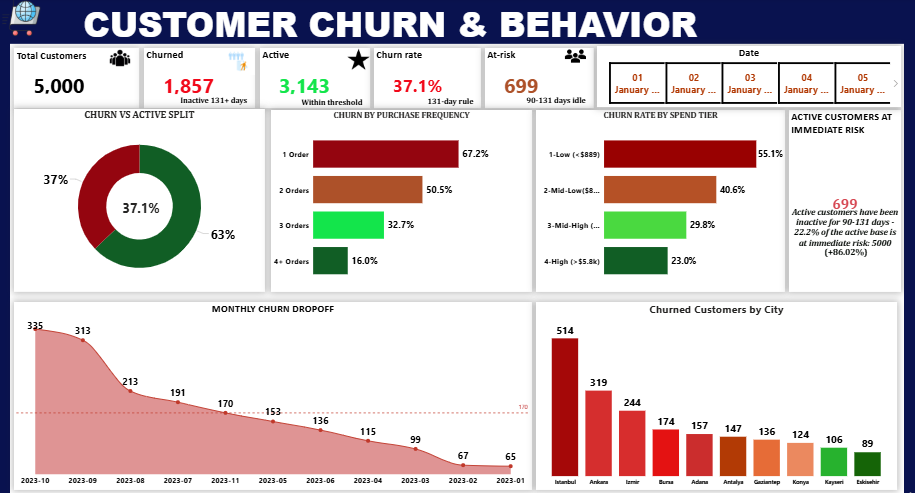

The page's visual inventory and layout, read from the dashboard file:
{"tool":"powerbi","page":{"name":"Customer Churn Dashboard","canvas":[1980,1080],"ordinal":0},"visuals":[{"type":"shape","box":[1952.6,30.2,28.1,1049.8],"z":0},{"type":"cardVisual","title":"Total Customers","fields":{"Data":["Orders.Total_Customers"]},"box":[30.2,108,270,129.6],"z":1000},{"type":"cardVisual","title":"Churned","fields":{"Data":["CustomerSummary.Churned_Customers"]},"box":[311,108,239.8,129.6],"z":2000},{"type":"textbox","title":"Inactive 131+ days","box":[384.5,211.7,157.7,19.4],"z":3000},{"type":"cardVisual","title":"Active","fields":{"Data":["CustomerSummary.Active_Customers"]},"box":[561.6,108,237.6,129.6],"z":4000},{"type":"textbox","title":"Within threshold","box":[645.8,216,153.4,19.4],"z":5000},{"type":"cardVisual","title":"Churn rate","fields":{"Data":["CustomerSummary.Churn_rate"]},"box":[807.8,108,231.1,129.6],"z":6000},{"type":"textbox","title":"131-day rule","box":[918,213.8,121,21.6],"z":7000},{"type":"cardVisual","title":"At-risk","fields":{"Data":["CustomerSummary.At_Risk_Customers"]},"box":[1047.6,108,235.4,129.6],"z":8000},{"type":"textbox","title":"90-131 days idle","box":[1131.8,211.7,146.9,23.8],"z":9000},{"type":"shape","box":[0,0,21.6,1080],"z":10000},{"type":"shape","box":[0,0,1980.7,99.4],"z":11000},{"type":"textbox","title":"CUSTOMER CHURN & BEHAVIOR DASHBOARD","box":[175,0,1624.3,90.7],"z":12000},{"type":"donutChart","title":"CHURN VS ACTIVE SPLIT","fields":{"Category":["CustomerSummary.Is_Churned"],"Y":["CustomerSummary.Customers"]},"box":[30.2,239.8,542.2,395.3],"z":13000},{"type":"textbox","title":"37.1%","box":[259.2,434.2,90.7,43.2],"z":14000},{"type":"clusteredBarChart","title":"CHURN BY PURCHASE FREQUENCY","fields":{"Category":["CustomerSummary.Order_Frequency_Segment"],"Y":["CustomerSummary.Churn_Rate_by_Frequency"]},"box":[585.4,241.9,563.8,393.1],"z":15000},{"type":"barChart","title":"CHURN RATE BY SPEND TIER","fields":{"Category":["CustomerSummary.Spend_Tier"],"Y":["CustomerSummary.Churn_Rate_By_Spend"]},"box":[1157.8,241.9,537.8,393.1],"z":16000},{"type":"lineChart","title":"MONTHLY CHURN DROPOFF","fields":{"Category":["Date_Table.Year-Month"],"Y":["CustomerSummary.Monthly_Churn_dropoff"]},"box":[30.2,656.6,1118.9,406.1],"z":17000},{"type":"kpi","title":"ACTIVE CUSTOMERS AT IMMEDIATE RISK","fields":{"Indicator":["CustomerSummary.At_Risk_Customers"],"Goal":["CustomerSummary.Customers"],"TrendLine":["Date_Table.Date"]},"box":[1704.2,241.9,241.9,393.1],"z":18000},{"type":"slicer","title":"Date","fields":{"Values":["Date_Table.Date"]},"box":[1289.5,103.7,656.6,131.8],"z":19000},{"type":"image","box":[218.2,108,82.1,43.2],"z":20000},{"type":"image","box":[477.4,108,73.4,58.3],"z":21000},{"type":"image","box":[749.5,108,49.7,47.5],"z":22000},{"type":"image","box":[1211.8,99.4,62.6,51.8],"z":23000},{"type":"image","box":[0,0,92.9,82.1],"z":24000},{"type":"columnChart","title":"Churned Customers by City","fields":{"Category":["Orders.City"],"Y":["Orders.Churned-Customers"]},"box":[1157.8,656.6,779.8,406.1],"z":25000}]}

Visuals, with their boxes in screenshot pixels (x1, y1, x2, y2), scaled from the page's 1980x1080 canvas onto the 915x493 screenshot:
shape: BBox(902, 14, 914, 492)
"Total Customers" cardVisual: BBox(14, 49, 139, 108)
"Churned" cardVisual: BBox(144, 49, 255, 108)
"Inactive 131+ days" textbox: BBox(178, 97, 251, 105)
"Active" cardVisual: BBox(260, 49, 369, 108)
"Within threshold" textbox: BBox(298, 99, 369, 107)
"Churn rate" cardVisual: BBox(373, 49, 480, 108)
"131-day rule" textbox: BBox(424, 98, 480, 107)
"At-risk" cardVisual: BBox(484, 49, 593, 108)
"90-131 days idle" textbox: BBox(523, 97, 591, 108)
shape: BBox(0, 0, 10, 492)
shape: BBox(0, 0, 914, 45)
"CUSTOMER CHURN & BEHAVIOR DASHBOARD" textbox: BBox(81, 0, 831, 41)
"CHURN VS ACTIVE SPLIT" donutChart: BBox(14, 109, 265, 290)
"37.1%" textbox: BBox(120, 198, 162, 218)
"CHURN BY PURCHASE FREQUENCY" clusteredBarChart: BBox(271, 110, 531, 290)
"CHURN RATE BY SPEND TIER" barChart: BBox(535, 110, 784, 290)
"MONTHLY CHURN DROPOFF" lineChart: BBox(14, 300, 531, 485)
"ACTIVE CUSTOMERS AT IMMEDIATE RISK" kpi: BBox(788, 110, 899, 290)
"Date" slicer: BBox(596, 47, 899, 108)
image: BBox(101, 49, 139, 69)
image: BBox(221, 49, 255, 76)
image: BBox(346, 49, 369, 71)
image: BBox(560, 45, 589, 69)
image: BBox(0, 0, 43, 37)
"Churned Customers by City" columnChart: BBox(535, 300, 895, 485)
